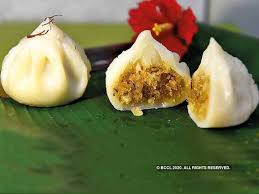modak: (3, 14, 96, 111)
